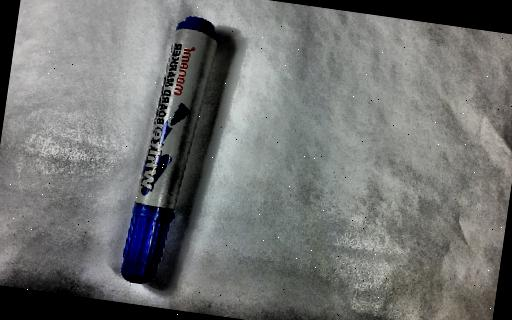marcador azul: (121, 16, 218, 284)
